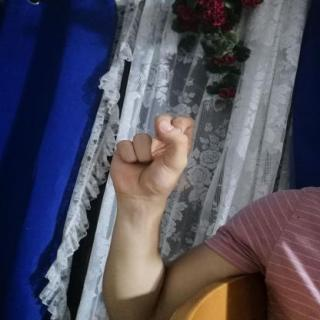QAAF: (101, 105, 207, 207)
